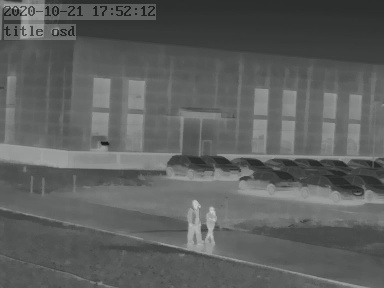person: (187, 200, 204, 246), (203, 206, 219, 246)
vehicle: (237, 169, 303, 191), (305, 173, 358, 200), (166, 152, 213, 179), (205, 153, 242, 177), (349, 173, 382, 199), (233, 154, 270, 171), (261, 155, 295, 169), (347, 156, 380, 170), (318, 156, 347, 170), (295, 156, 324, 169)
